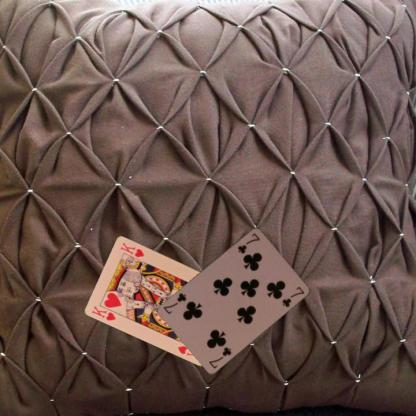7c: (206, 344, 233, 370), (235, 230, 261, 255)
Kh: (90, 303, 117, 322)
